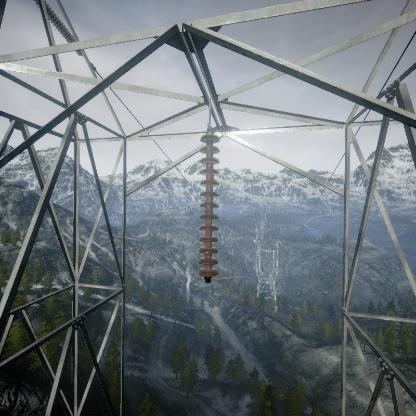insulator: (196, 126, 225, 280)
tower: (252, 236, 282, 317)
